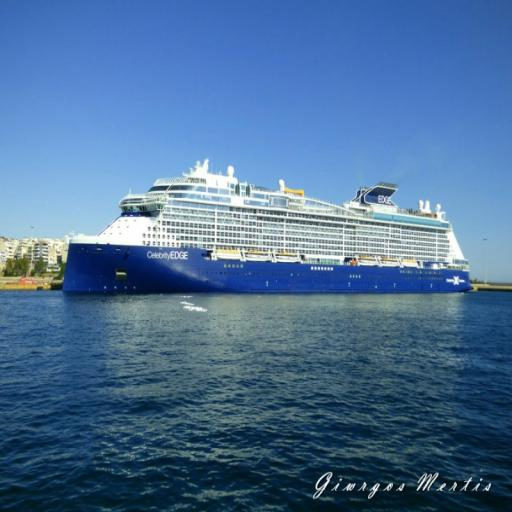cruises: (58, 153, 477, 300)
